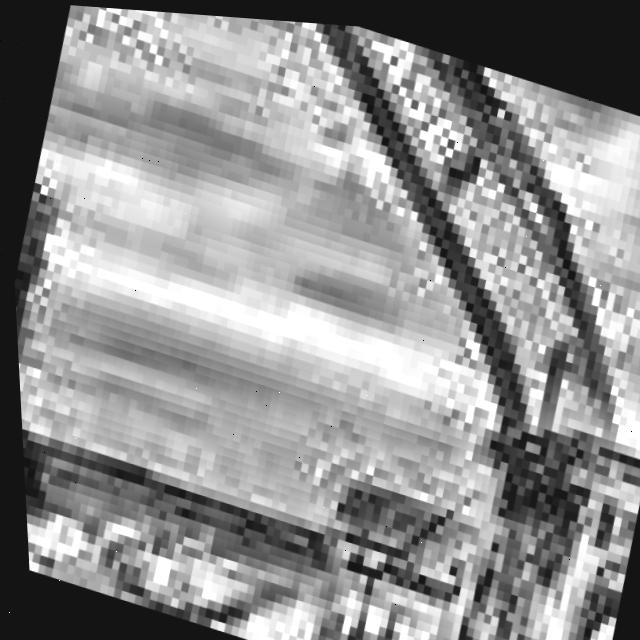excavator: (314, 334, 640, 640)
